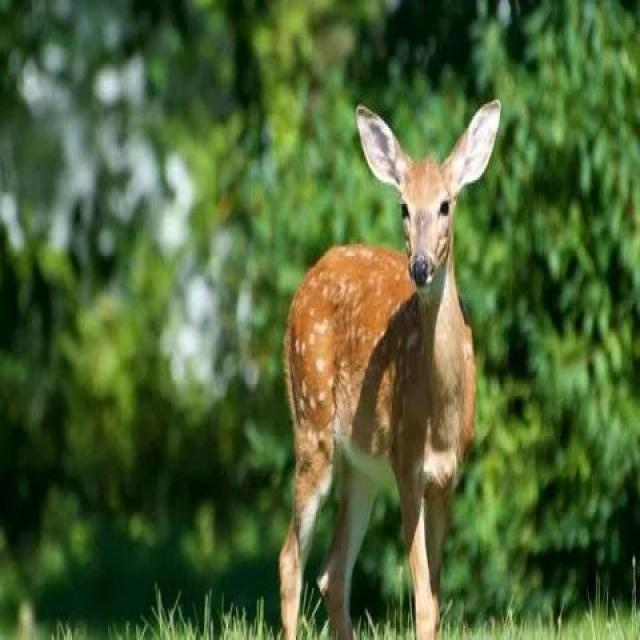deer: (241, 70, 530, 640)
